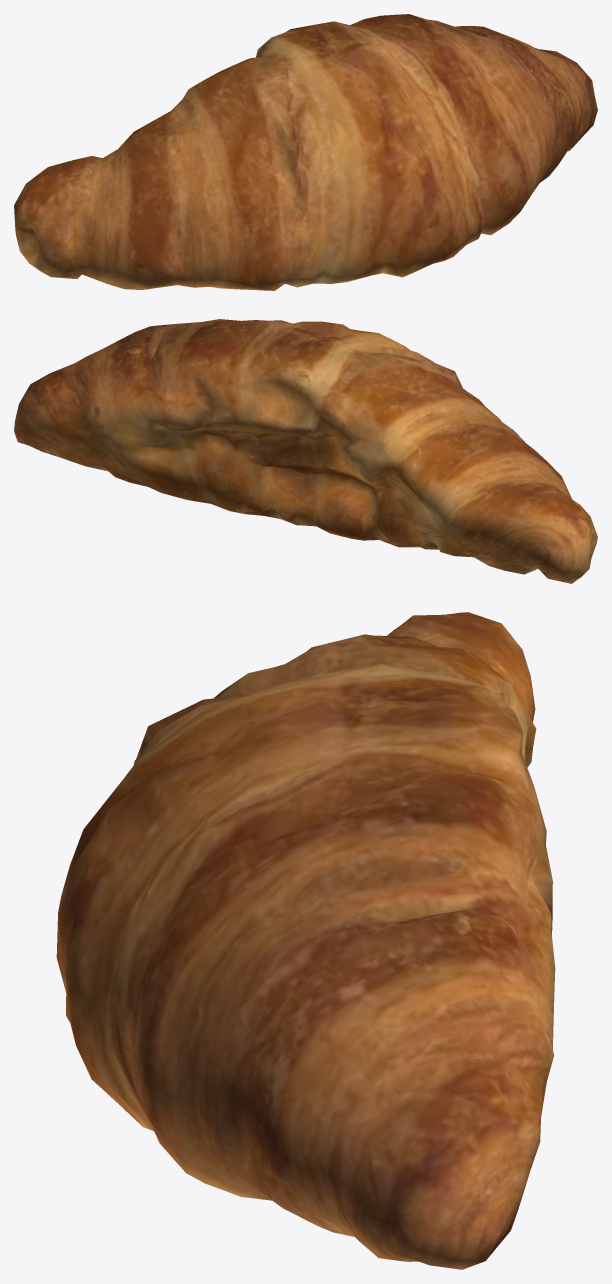
File: croissant.glb
3 renders of one model, top to bottom at view 1: azimuth 30°, elevation 25°; view 2: azimuth 150°, elevation 25°; view 3: azimuth 270°, elevation 25°, orthographic. The views are drawn at different scales.
Parts seen in each view (by area): view 1: croissant_0; view 2: croissant_0; view 3: croissant_0.
Boxes of the visible parts, x1,y1,x2,y2 form: croissant_0: (14,14,597,290); croissant_0: (14,319,597,583); croissant_0: (56,612,555,1269).
Size of the model in its own units: 0.2 by 0.062 by 0.0755.
Materials: 1 (1 with a texture image).
